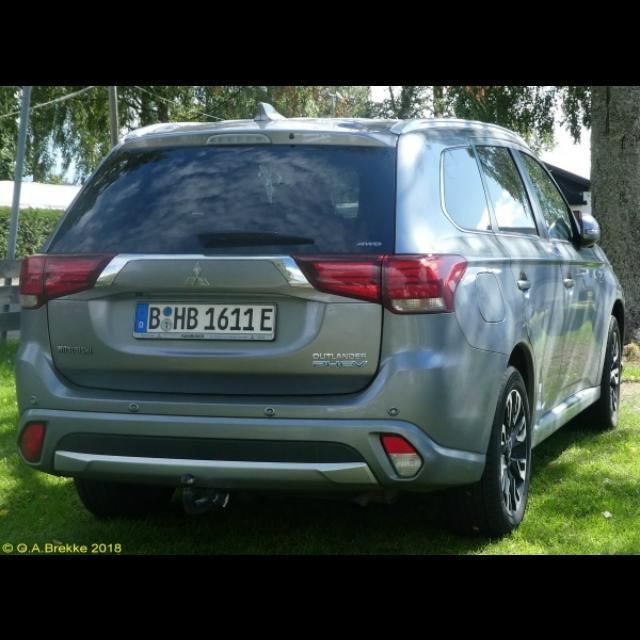license-plates: (133, 303, 276, 340)
